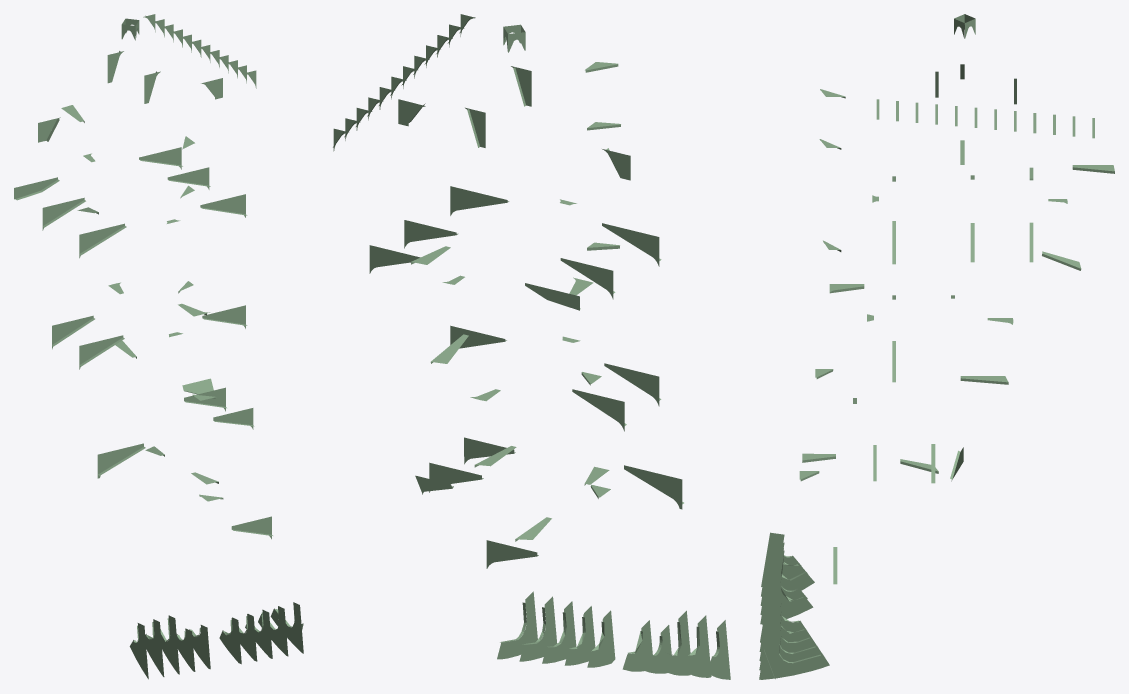
File: DIRTY_SLOP_TK_PS.glb
3 renders of one model, left to right at view 1: azimuth 30°, elevation 25°; view 2: azimuth 150°, elevation 25°; view 3: azimuth 270°, elevation 25°, orthographic. The views are drawn at different scales.
Visible parts, largest first — view 1: PL_OuterShellBracketxSlopTankP_003001-12_NVA_1993, PL_OuterShellBracketxSlopTankP_011002-12_NVA_1993, PL_OuterShellBracketxSlopTankP_010001-12_NVA_1993, PL_OuterShellBracketxSlopTankP_004001-12_NVA_1993, PL_OuterShellBracketxSlopTankP_007001-12_NVA_1993, PL_OuterShellBracketxSlopTankP_012002-12_NVA_1993, PL_OuterShellBracketxSlopTankP_005001-12_NVA_1993, PL_OuterShellBracketxSlopTankP_006001-12_NVA_1993, PL_OuterShellBracketxSlopTankP_008001-12_NVA_1993, PL_OuterShellBracketxSlopTankP_009001-12_NVA_1993; view 2: PL_OuterShellBracketxSlopTankP_003001-12_NVA_1993, PL_OuterShellBracketxSlopTankP_004001-12_NVA_1993, PL_OuterShellBracketxSlopTankP_011002-12_NVA_1993, PL_OuterShellBracketxSlopTankP_010001-12_NVA_1993, PL_OuterShellBracketxSlopTankP_005001-12_NVA_1993, PL_OuterShellBracketxSlopTankP_006001-12_NVA_1993, PL_OuterShellBracketxSlopTankP_007001-12_NVA_1993, PL_OuterShellBracketxSlopTankP_008001-12_NVA_1993, PL_OuterShellBracketxSlopTankP_012002-12_NVA_1993, PL_HG41BracketxSlopTankP_005004-12_NVA_1993, PL_HG54BracketxSlopTankP_004004-12_NVA_1993, PL_HG47BracketxSlopTankP_004006-12_NVA_1993 (+2 smaller); view 3: PL_OuterShellBracketxSlopTankP_003001-12_NVA_1993, PL_OuterShellBracketxSlopTankP_010001-12_NVA_1993, PL_OuterShellBracketxSlopTankP_008001-12_NVA_1993, PL_OuterShellBracketxSlopTankP_004001-12_NVA_1993, PL_OuterShellBracketxSlopTankP_005001-12_NVA_1993.
Boxes of the visible parts, x1=… form: PL_OuterShellBracketxSlopTankP_003001-12_NVA_1993: x1=270, y1=602, x2=303, y2=653; PL_OuterShellBracketxSlopTankP_011002-12_NVA_1993: x1=145, y1=619, x2=164, y2=676; PL_OuterShellBracketxSlopTankP_010001-12_NVA_1993: x1=161, y1=615, x2=179, y2=674; PL_OuterShellBracketxSlopTankP_004001-12_NVA_1993: x1=258, y1=606, x2=288, y2=656; PL_OuterShellBracketxSlopTankP_007001-12_NVA_1993: x1=219, y1=617, x2=241, y2=664; PL_OuterShellBracketxSlopTankP_012002-12_NVA_1993: x1=129, y1=623, x2=148, y2=679; PL_OuterShellBracketxSlopTankP_005001-12_NVA_1993: x1=245, y1=609, x2=272, y2=658; PL_OuterShellBracketxSlopTankP_006001-12_NVA_1993: x1=239, y1=614, x2=257, y2=661; PL_OuterShellBracketxSlopTankP_008001-12_NVA_1993: x1=189, y1=625, x2=210, y2=669; PL_OuterShellBracketxSlopTankP_009001-12_NVA_1993: x1=176, y1=628, x2=195, y2=671; PL_OuterShellBracketxSlopTankP_003001-12_NVA_1993: x1=497, y1=591, x2=537, y2=659; PL_OuterShellBracketxSlopTankP_004001-12_NVA_1993: x1=519, y1=596, x2=557, y2=661; PL_OuterShellBracketxSlopTankP_011002-12_NVA_1993: x1=683, y1=615, x2=711, y2=677; PL_OuterShellBracketxSlopTankP_010001-12_NVA_1993: x1=660, y1=610, x2=690, y2=675; PL_OuterShellBracketxSlopTankP_005001-12_NVA_1993: x1=542, y1=601, x2=576, y2=663; PL_OuterShellBracketxSlopTankP_006001-12_NVA_1993: x1=564, y1=606, x2=595, y2=665; PL_OuterShellBracketxSlopTankP_007001-12_NVA_1993: x1=587, y1=610, x2=615, y2=667; PL_OuterShellBracketxSlopTankP_008001-12_NVA_1993: x1=622, y1=620, x2=652, y2=671; PL_OuterShellBracketxSlopTankP_012002-12_NVA_1993: x1=707, y1=620, x2=730, y2=679; PL_HG41BracketxSlopTankP_005004-12_NVA_1993: x1=650, y1=472, x2=682, y2=509; PL_HG54BracketxSlopTankP_004004-12_NVA_1993: x1=627, y1=229, x2=659, y2=266; PL_HG47BracketxSlopTankP_004006-12_NVA_1993: x1=627, y1=369, x2=659, y2=406; PL_OuterShellBracketxSlopTankP_003001-12_NVA_1993: x1=759, y1=630, x2=829, y2=679; PL_OuterShellBracketxSlopTankP_010001-12_NVA_1993: x1=760, y1=548, x2=814, y2=605; PL_OuterShellBracketxSlopTankP_008001-12_NVA_1993: x1=760, y1=582, x2=813, y2=624; PL_OuterShellBracketxSlopTankP_004001-12_NVA_1993: x1=759, y1=622, x2=822, y2=670; PL_OuterShellBracketxSlopTankP_005001-12_NVA_1993: x1=759, y1=614, x2=816, y2=661.
Size of the model in its own units: 10.48 by 31.43 by 16.32.
